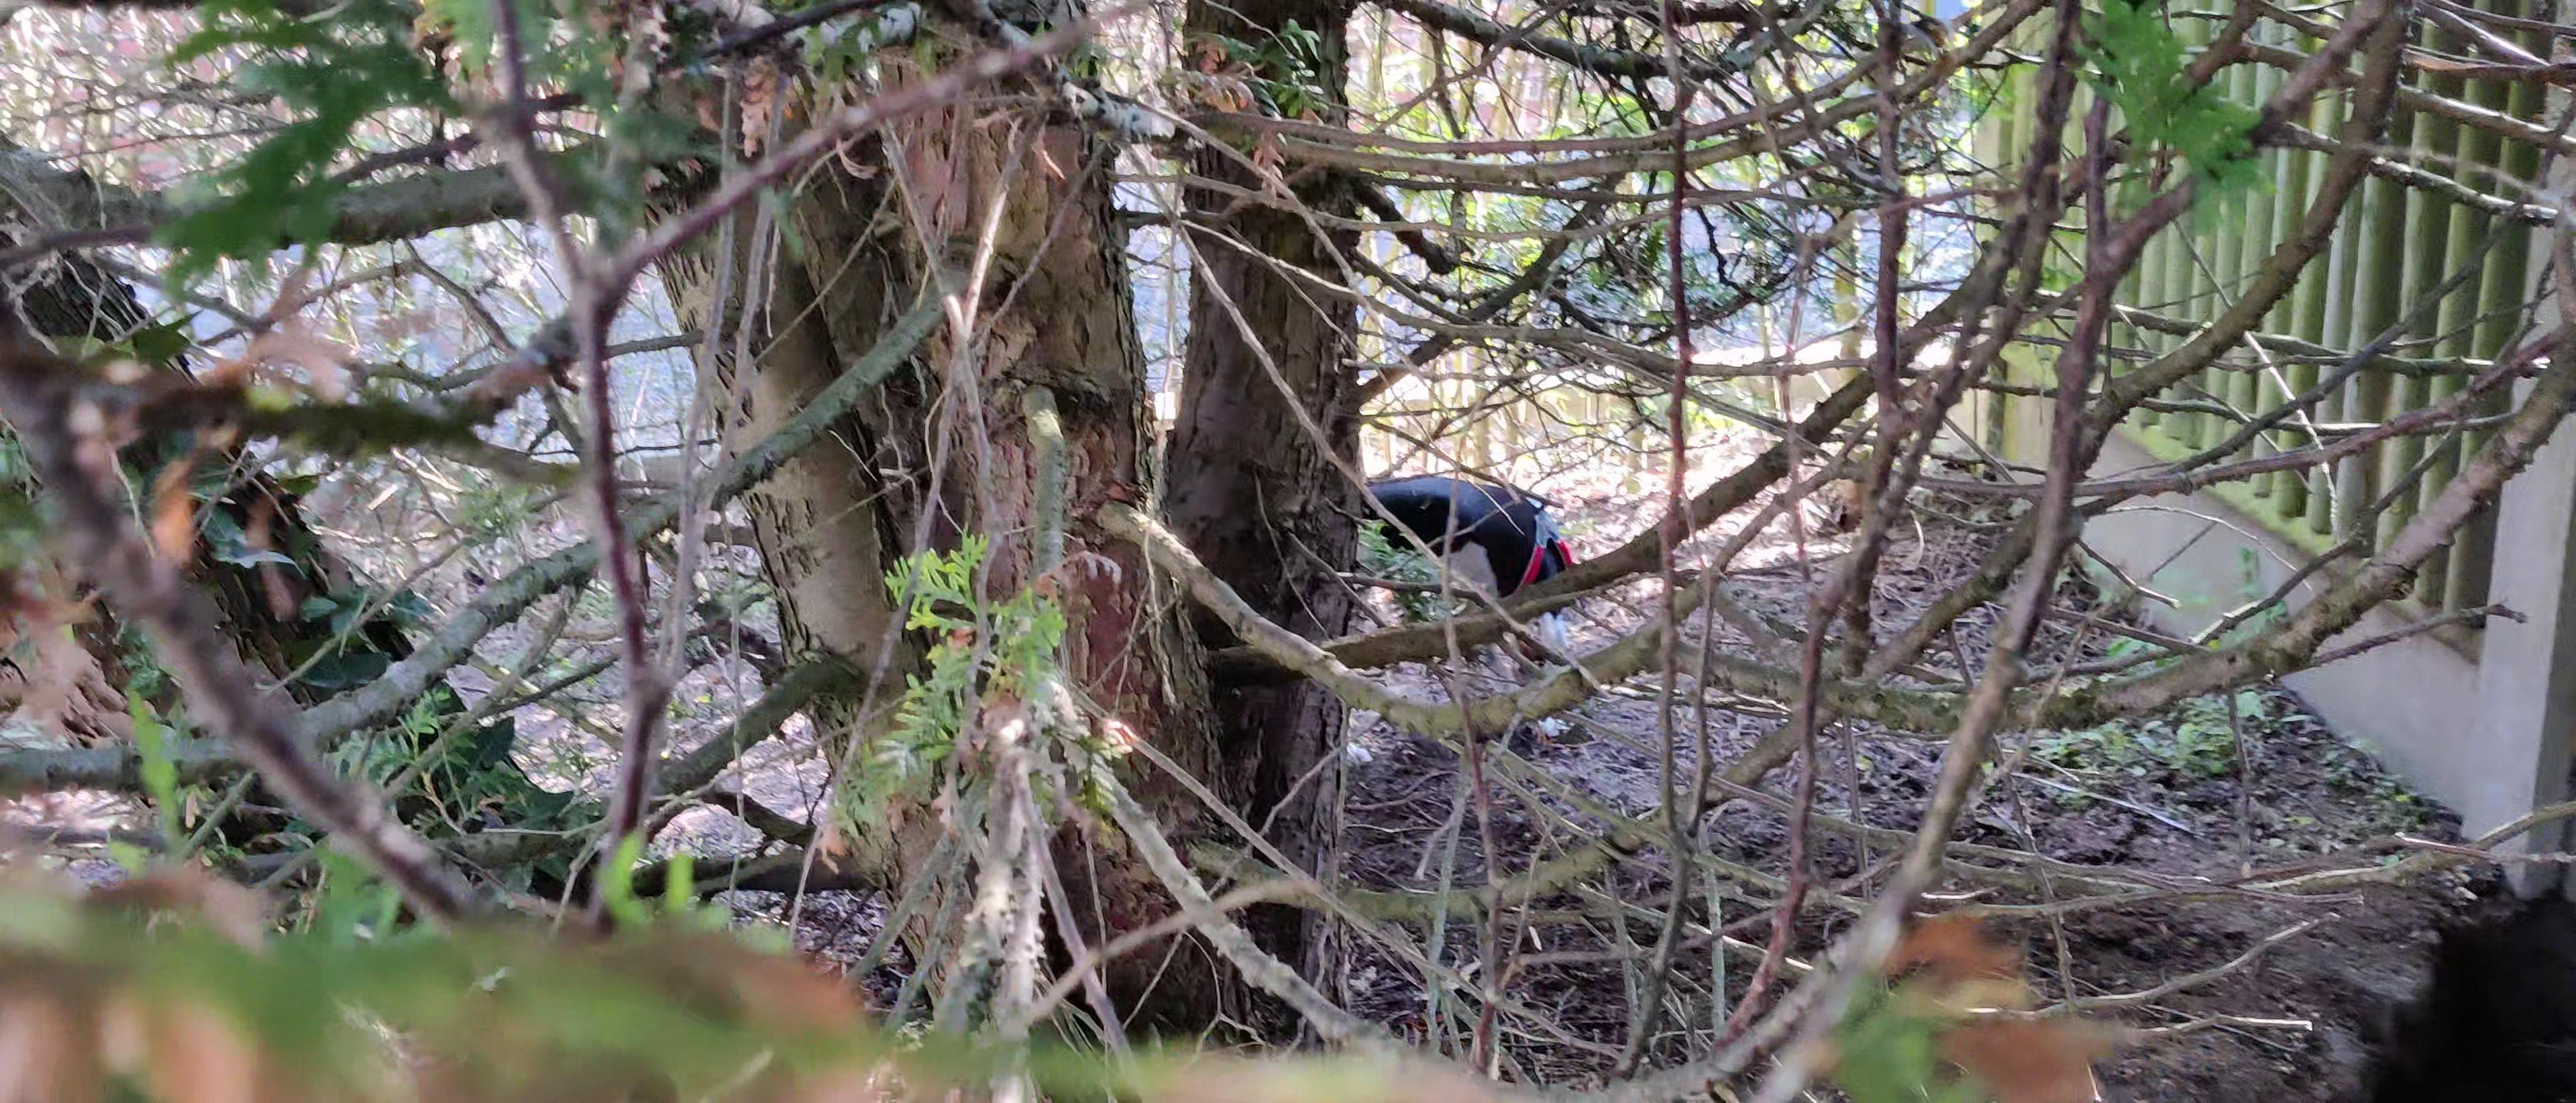Dog: (1327, 447, 1579, 774)
